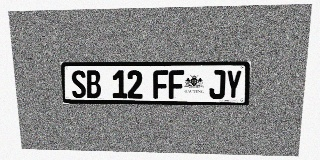1: (112, 70, 127, 98)
2: (127, 70, 142, 99)
B: (86, 70, 101, 98)
F: (153, 70, 168, 99), (169, 70, 184, 99)
J: (209, 70, 226, 99)
S: (71, 70, 86, 98)
Y: (225, 70, 242, 99)
